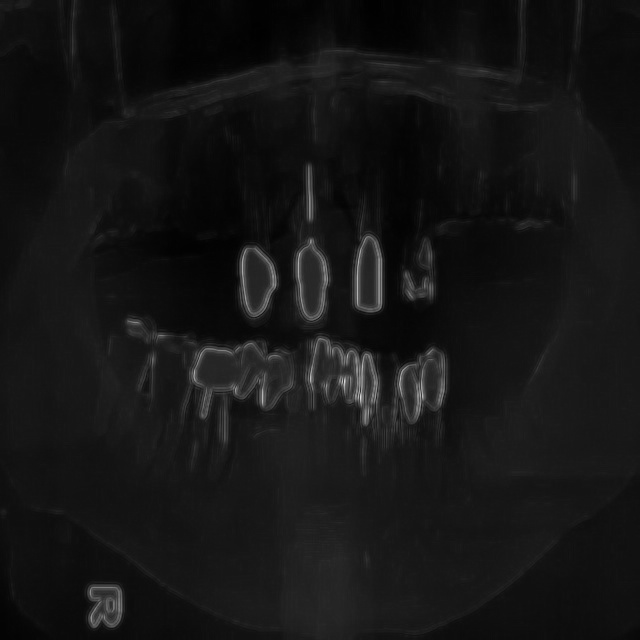Class 1- complete endodontic treatment: (193, 378, 238, 496)
cavity: (228, 109, 283, 334), (348, 126, 394, 329), (400, 356, 452, 507)
